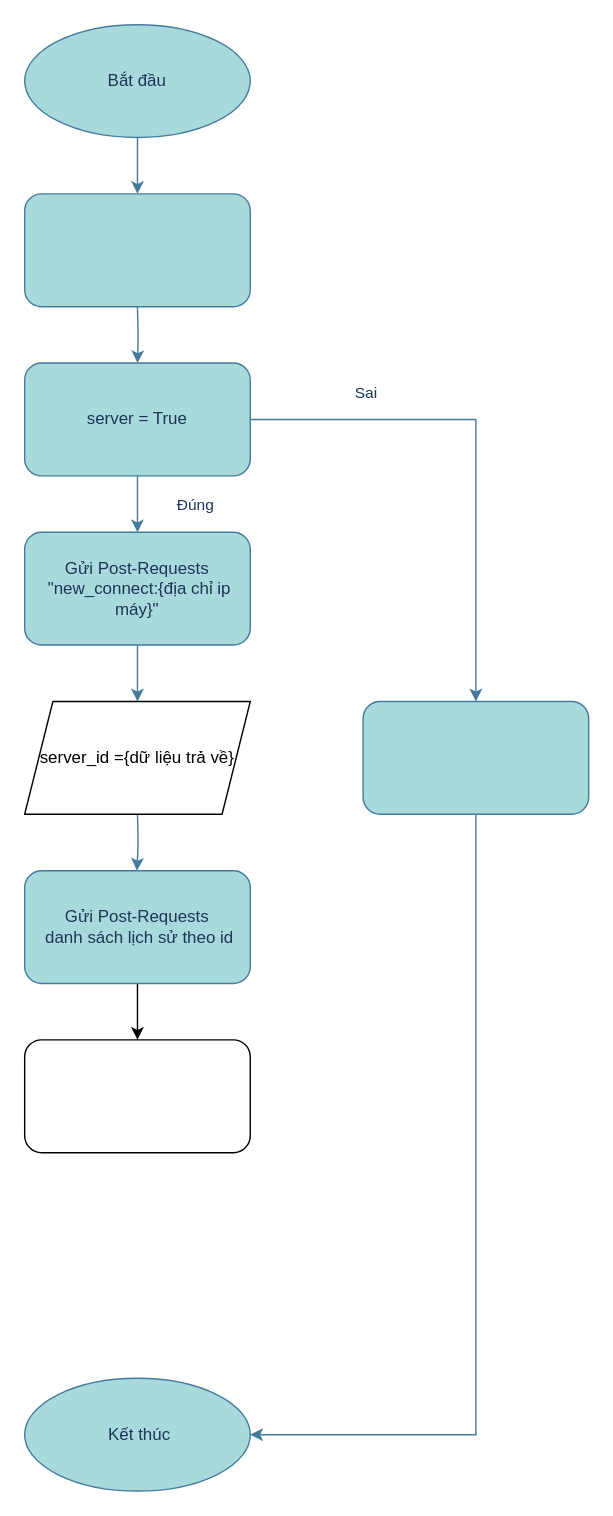
The diagram is 613 pixels wide and 1516 high, and some of its shapes have lost their labels. The shapes that lost their labels are listed below. From the top down, each one's box as (x1, y1, x2, y2) in pixels, then its label:
(23, 192, 250, 307): Nhận server_ip
(362, 700, 589, 814): Thông báo lỗi
(23, 1038, 250, 1153): Gửi Post-Requests "get_blacklist:blacklist"
